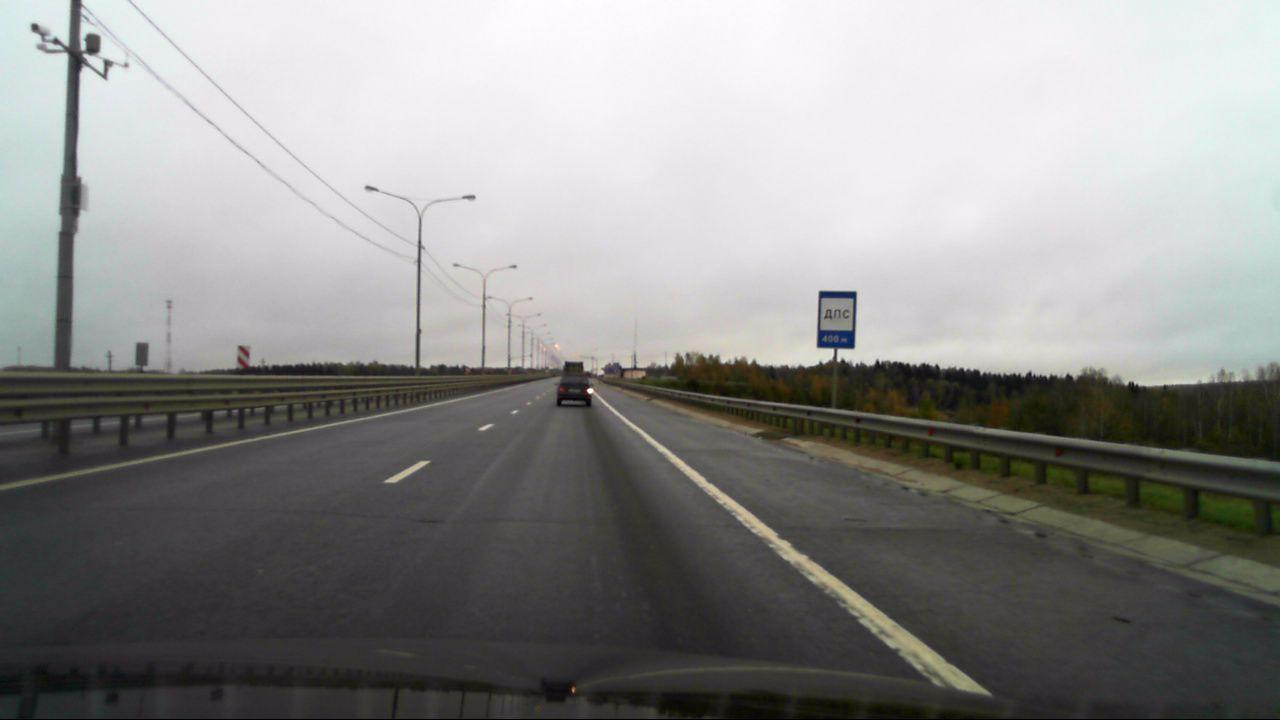7_12: (815, 289, 855, 348)
